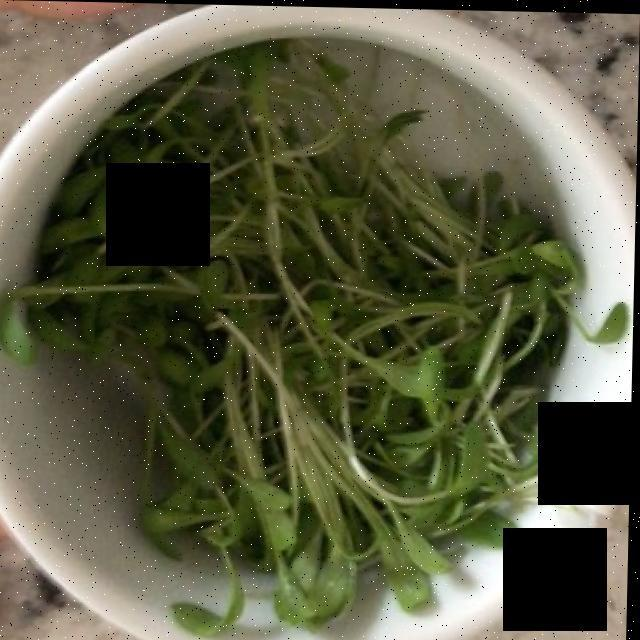shoots: (14, 44, 593, 610)
